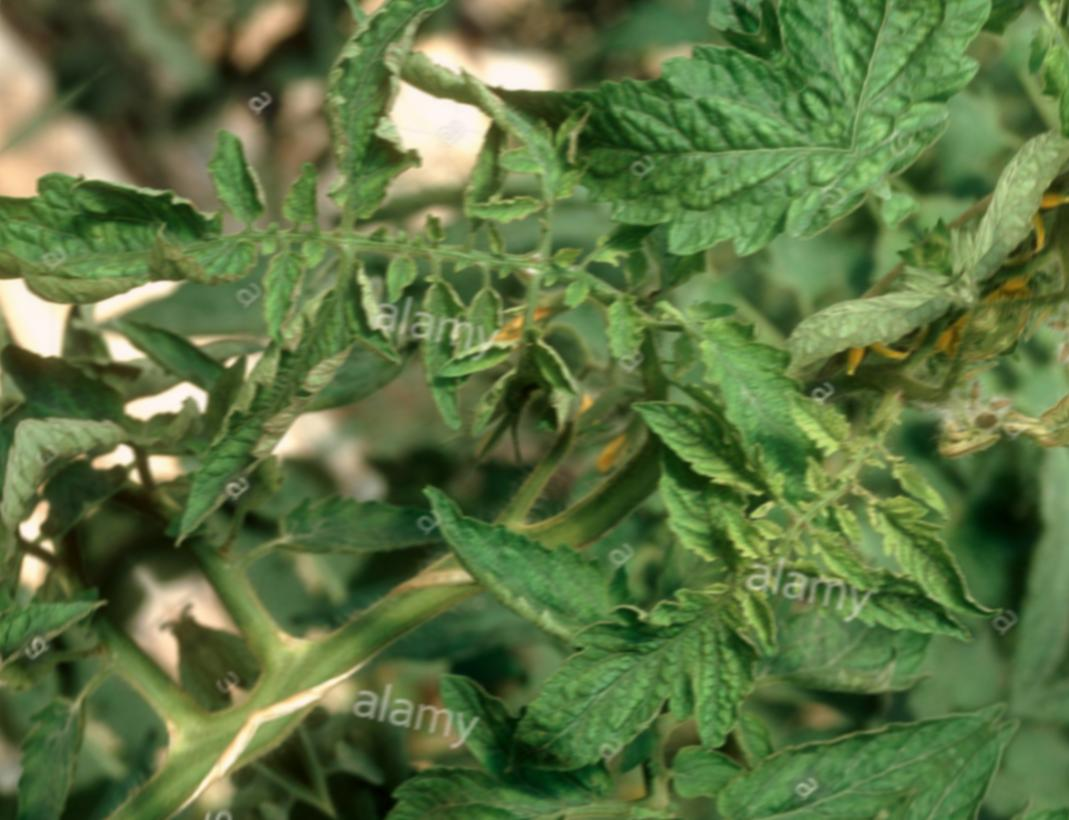Tomato leaf yellow virus: (502, 0, 936, 418), (0, 47, 302, 455), (470, 546, 807, 820), (837, 458, 1020, 655)
